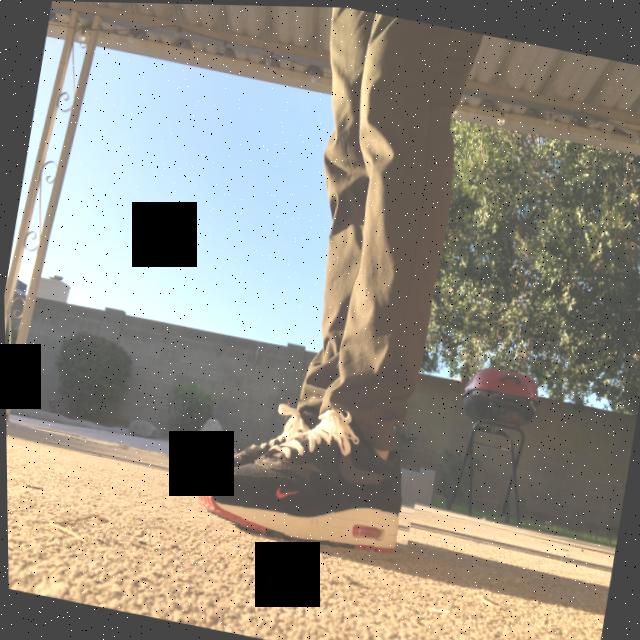shoe: (170, 363, 431, 564)
